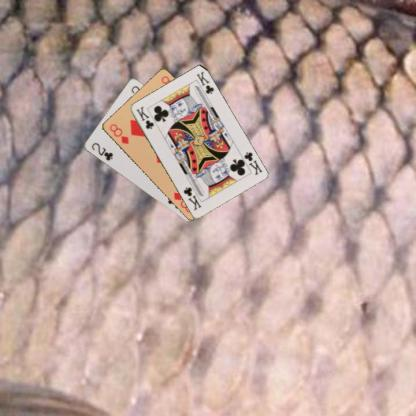2c: (89, 140, 114, 162)
8d: (107, 121, 130, 146)
Kc: (133, 104, 155, 130), (241, 150, 263, 176)
